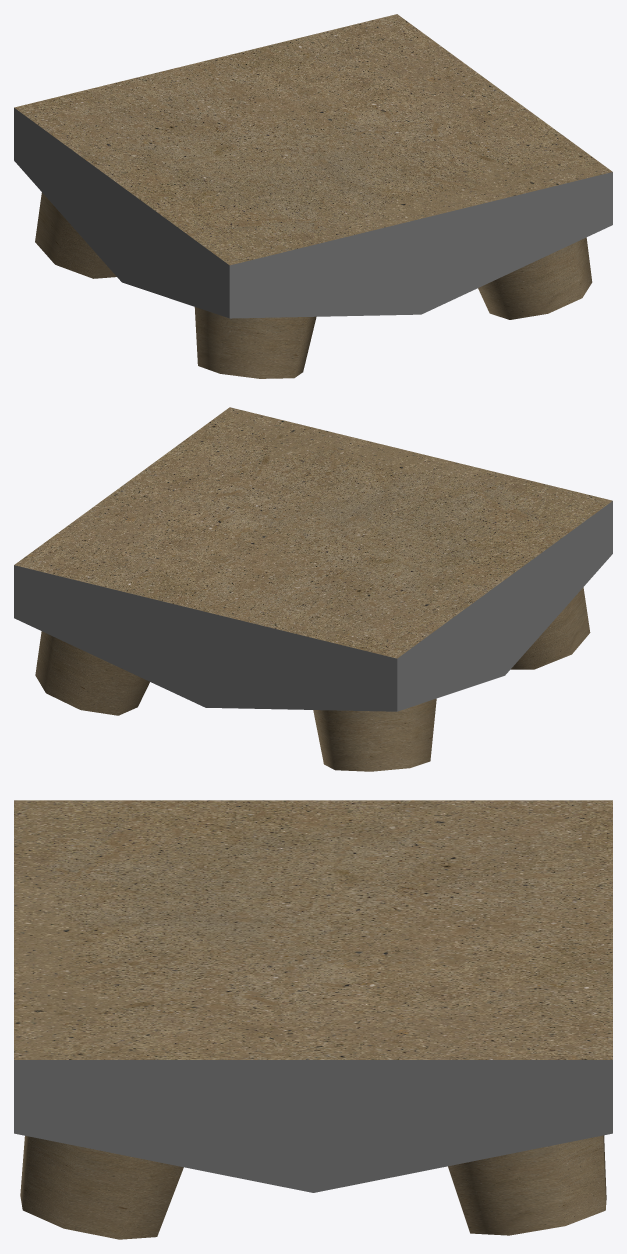
Rendered from Platform_03.fbx.
The picture shows the model from 3 angles, top to bottom: view 1: azimuth 30°, elevation 25°; view 2: azimuth 150°, elevation 25°; view 3: azimuth 270°, elevation 25°; orthographic projection. The views are drawn at different scales.
Parts seen in each view (by area): view 1: Platdorm_Red_018; view 2: Platdorm_Red_018; view 3: Platdorm_Red_018.
Boxes of the visible parts, x1,y1,x2,y2 form: Platdorm_Red_018: (14,14,612,378); Platdorm_Red_018: (14,407,612,771); Platdorm_Red_018: (14,800,612,1239).
Bounding box in the file's own units: 12.06 × 4.44 × 11.76.
